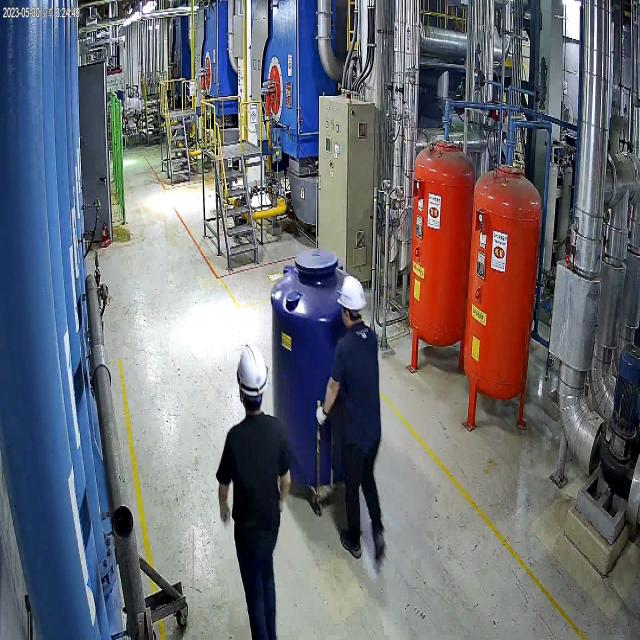Water Tank: (266, 242, 362, 513)
worker: (211, 336, 296, 640), (316, 264, 398, 565)
